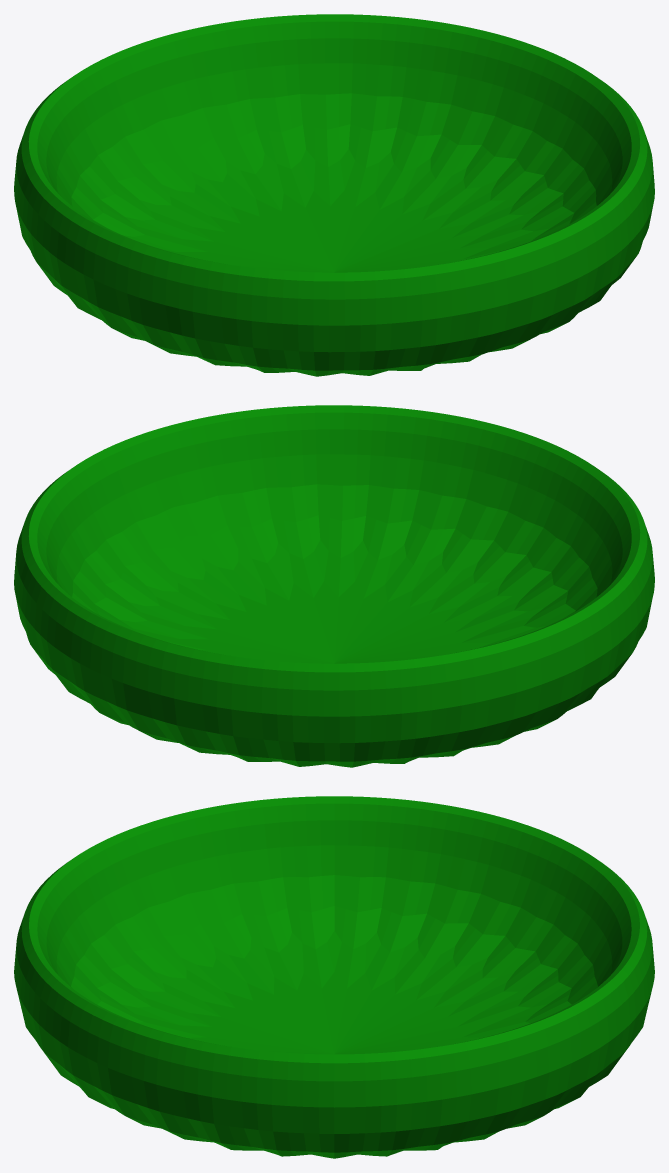
Rendered from Tray.glb.
3 renders of one model, top to bottom at view 1: azimuth 30°, elevation 25°; view 2: azimuth 150°, elevation 25°; view 3: azimuth 270°, elevation 25°, orthographic.
Visible parts, largest first — view 1: Cylinder; view 2: Cylinder; view 3: Cylinder.
Part boxes in pixels (x1,y1,x2,y2): Cylinder: (14,14,654,376); Cylinder: (14,405,654,767); Cylinder: (14,796,654,1158).
Size of the model in its own units: 20.81 by 5.66 by 20.81.
